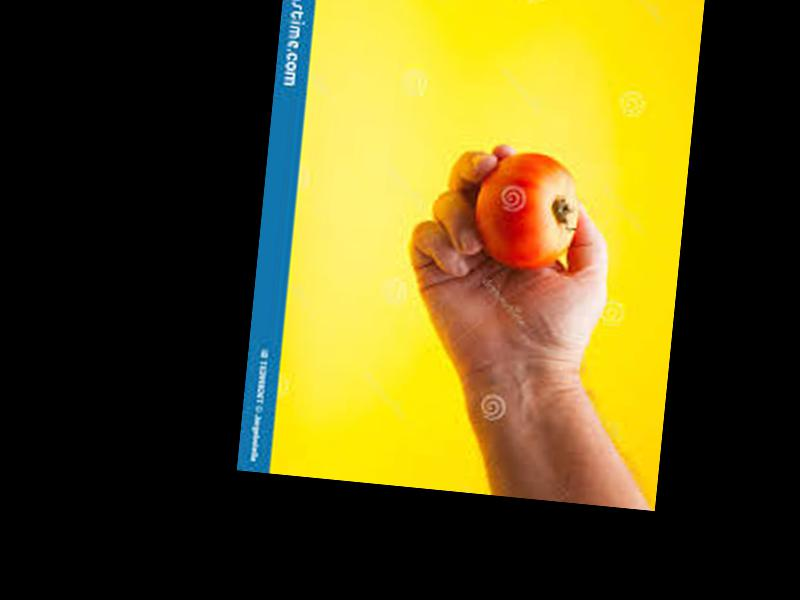Tomato: (470, 149, 582, 273)
